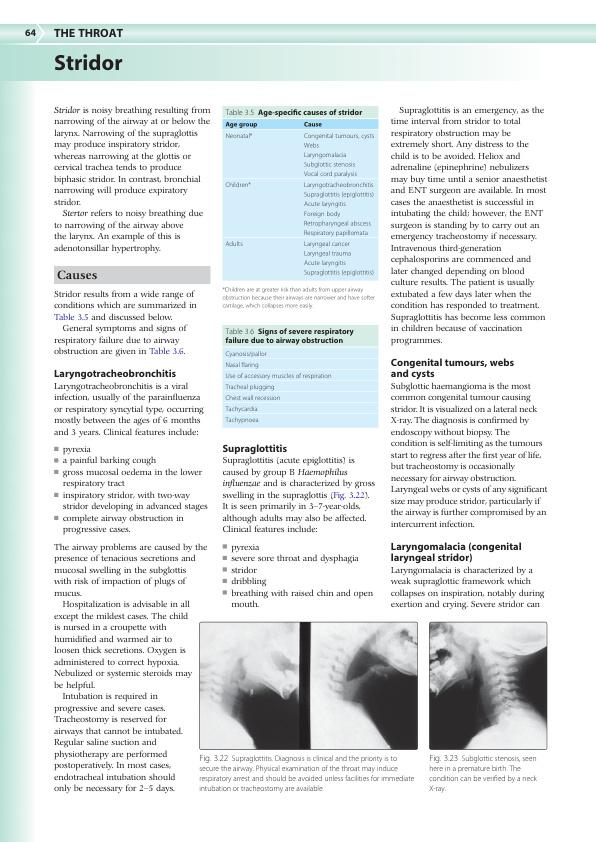caption: (198, 753, 416, 794), (428, 753, 538, 795), (224, 327, 355, 346), (224, 108, 364, 118)
chapter-heading: (54, 52, 124, 72)
header: (53, 28, 124, 38)
image: (198, 620, 419, 751), (428, 621, 548, 750)
list: (51, 444, 209, 537), (220, 542, 375, 609)
section-heading: (56, 269, 98, 281)
sub-section-heading: (390, 541, 522, 564), (389, 356, 515, 380), (53, 368, 176, 381), (222, 443, 288, 455)
table: (222, 118, 379, 311), (222, 348, 379, 429)
text: (389, 104, 547, 347), (52, 599, 193, 796), (52, 105, 212, 255), (389, 381, 549, 529), (222, 456, 376, 534), (52, 289, 198, 358), (53, 381, 206, 438), (52, 542, 209, 597), (390, 565, 547, 610)
